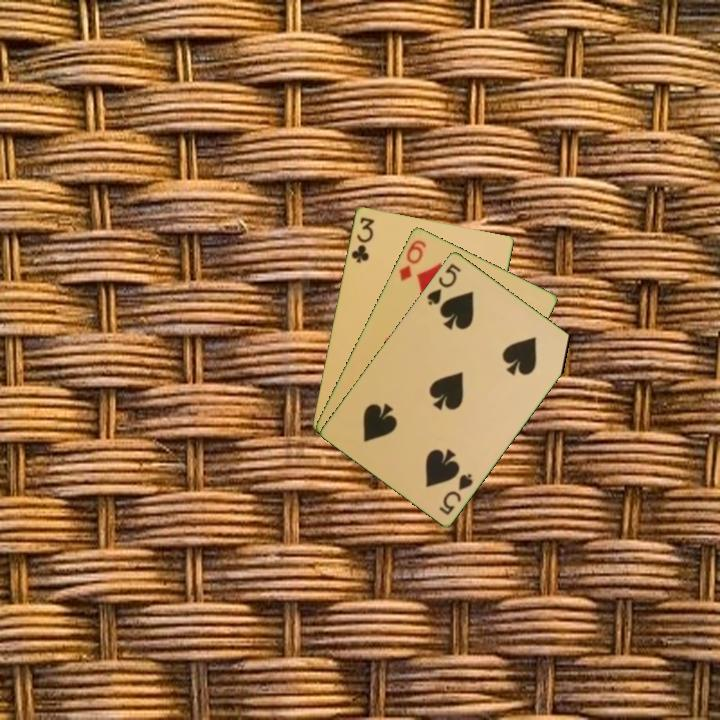3c: (347, 213, 377, 265)
5s: (423, 259, 464, 308), (435, 469, 476, 518)
6d: (395, 236, 429, 284)
